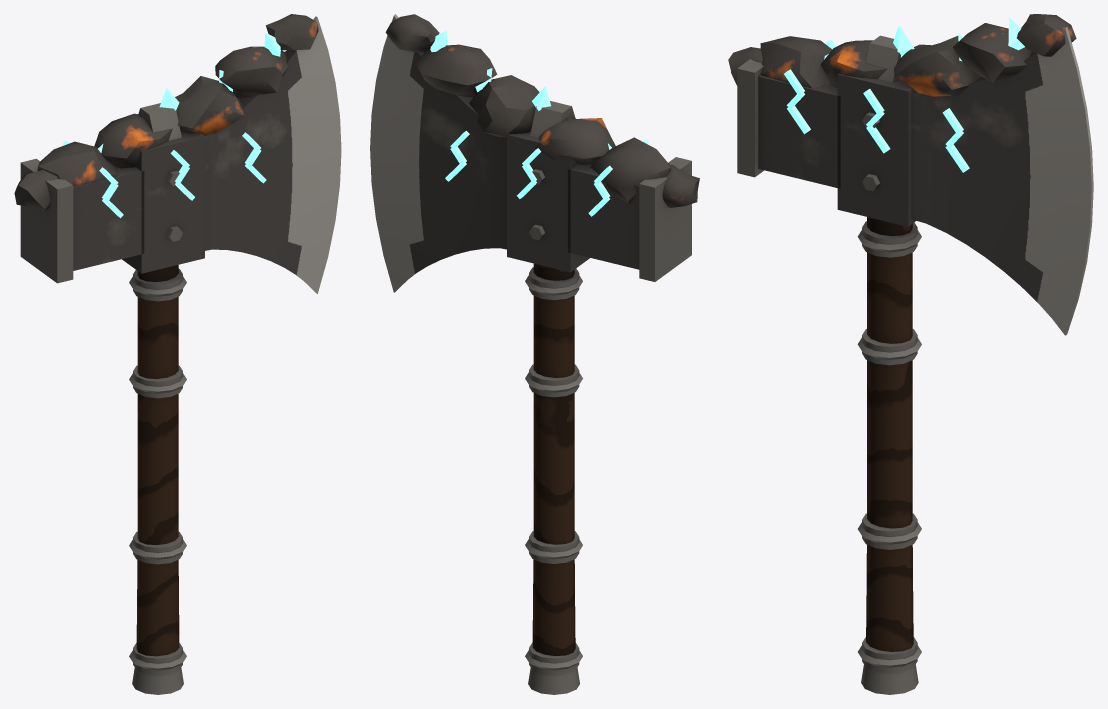
File: hacha_meteorito.fbx
3 renders of one model, left to right at view 1: azimuth 30°, elevation 25°; view 2: azimuth 150°, elevation 25°; view 3: azimuth 330°, elevation 25°, orthographic. The views are drawn at different scales.
Visible parts, largest first — view 1: HachaMeteorito_Cabeza, HachaMeteorito_Mango, HachaMeteorito_Roca, HachaMeteorito_Anillos, HachaMeteorito_Neon_01; view 2: HachaMeteorito_Cabeza, HachaMeteorito_Roca, HachaMeteorito_Mango, HachaMeteorito_Anillos, HachaMeteorito_Neon_01; view 3: HachaMeteorito_Cabeza, HachaMeteorito_Mango, HachaMeteorito_Roca, HachaMeteorito_Anillos, HachaMeteorito_Neon_01.
Boxes of the visible parts, left/top/right/bottom form: HachaMeteorito_Cabeza: left=20, top=16, right=341, bottom=293; HachaMeteorito_Mango: left=136, top=265, right=179, bottom=656; HachaMeteorito_Roca: left=14, top=14, right=318, bottom=210; HachaMeteorito_Anillos: left=129, top=269, right=186, bottom=694; HachaMeteorito_Neon_01: left=63, top=32, right=280, bottom=218; HachaMeteorito_Cabeza: left=370, top=14, right=691, bottom=292; HachaMeteorito_Roca: left=385, top=14, right=699, bottom=207; HachaMeteorito_Mango: left=532, top=263, right=575, bottom=655; HachaMeteorito_Anillos: left=525, top=267, right=582, bottom=694; HachaMeteorito_Neon_01: left=430, top=31, right=649, bottom=216; HachaMeteorito_Cabeza: left=737, top=27, right=1093, bottom=335; HachaMeteorito_Mango: left=866, top=217, right=913, bottom=651; HachaMeteorito_Roca: left=728, top=14, right=1076, bottom=96; HachaMeteorito_Anillos: left=857, top=221, right=921, bottom=694; HachaMeteorito_Neon_01: left=784, top=17, right=1024, bottom=172.
Size of the model in its own units: 0.3436 by 0.6392 by 0.0728.
2 materials, 1 textured.
